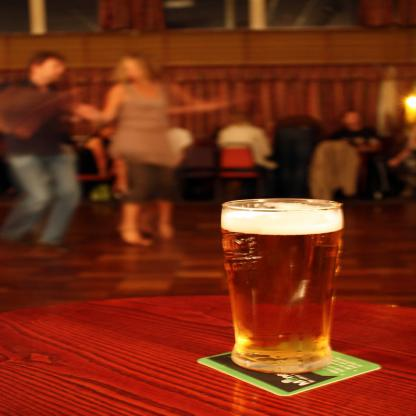drinking: (221, 198, 343, 374)
